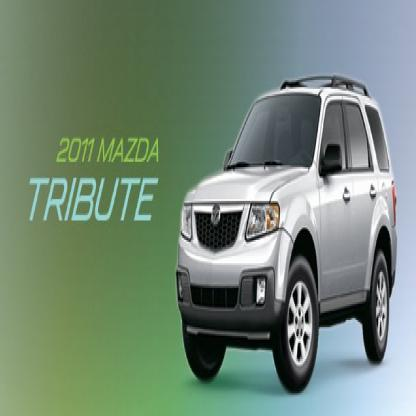Vehicle: (175, 75, 398, 396)
